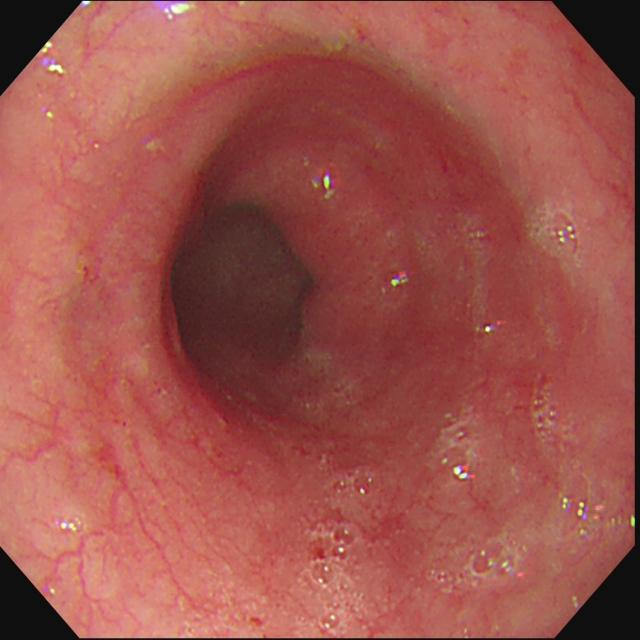E: (160, 192, 324, 388)
T: (307, 464, 379, 637), (427, 538, 524, 594), (558, 474, 610, 546), (526, 203, 584, 263), (531, 382, 560, 451), (380, 265, 410, 309)
U: (37, 42, 66, 79), (314, 174, 338, 200), (163, 3, 194, 21), (453, 464, 473, 481)
